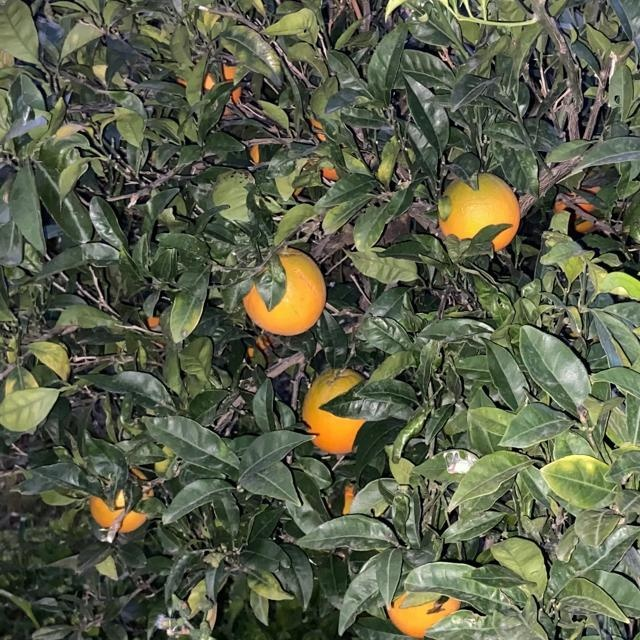orange: (430, 158, 526, 254), (241, 242, 329, 336), (295, 362, 383, 454), (4, 330, 70, 396), (387, 585, 463, 639), (335, 474, 399, 534), (88, 477, 154, 533), (200, 60, 246, 118), (555, 184, 603, 228), (311, 139, 359, 179), (237, 139, 269, 169), (243, 336, 271, 360), (143, 312, 165, 336), (304, 119, 330, 137), (176, 70, 184, 90)
